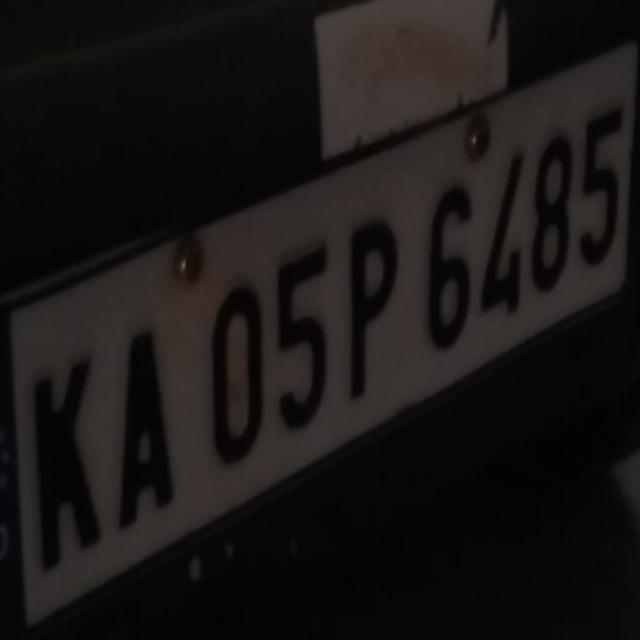0: (207, 272, 267, 468)
4: (482, 139, 528, 343)
5: (270, 226, 333, 441), (577, 94, 628, 278)
6: (419, 170, 477, 360)
8: (532, 128, 576, 308)
A: (110, 324, 180, 541)
K: (28, 342, 106, 580)
P: (344, 210, 404, 414)
